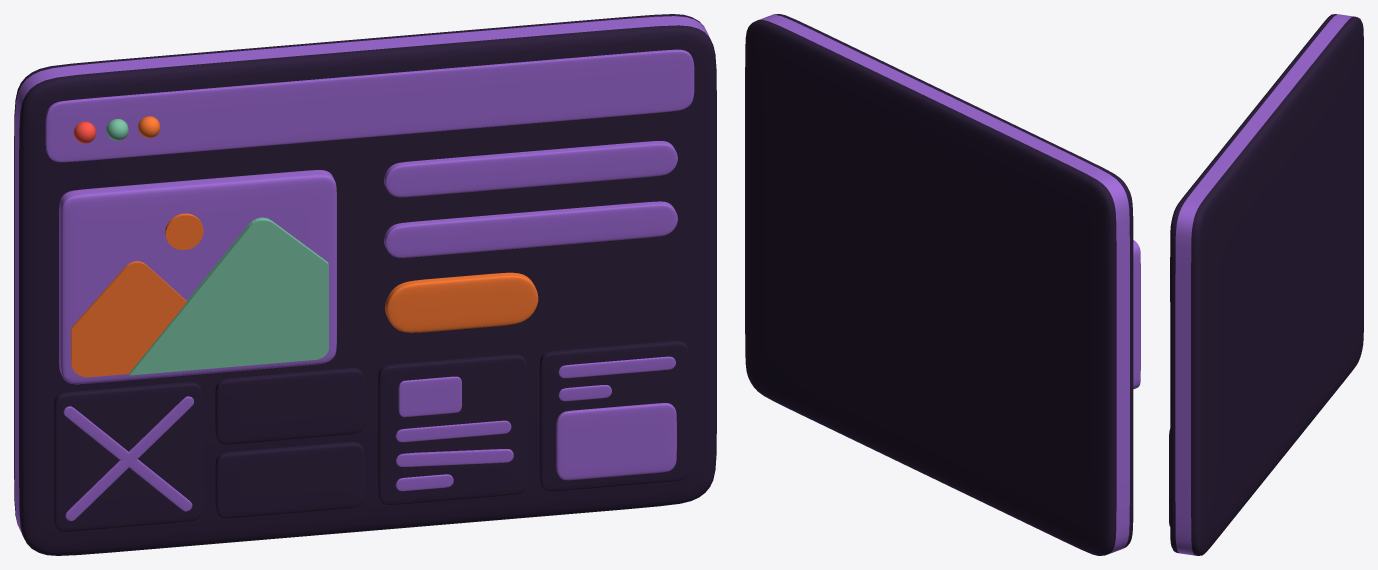
File: website-3d-animated-icon-853515517127.glb
3 views of the same model, side by side, from view 1: azimuth 30°, elevation 25°; view 2: azimuth 150°, elevation 25°; view 3: azimuth 270°, elevation 25° (orthographic). The views are drawn at different scales.
Parts seen in each view (by area): view 1: Windows Frame, Image Icon, Frame 1, Cube.008, Frame 2, Frame 3, Empty Frame 1, Empty Frame 2, Frame 3 Shape, Web Button, Frame 2 Shape, Frame 2 Line 2 (+2 smaller); view 2: Windows Frame, Image Icon; view 3: Windows Frame.
Part boxes in pixels (<box>): Windows Frame: <box>14,14,716,555</box>; Image Icon: <box>59,170,336,384</box>; Frame 1: <box>53,382,202,531</box>; Cube.008: <box>384,141,677,257</box>; Frame 2: <box>377,354,527,504</box>; Frame 3: <box>539,341,688,491</box>; Empty Frame 1: <box>215,368,364,444</box>; Empty Frame 2: <box>215,442,364,518</box>; Frame 3 Shape: <box>556,403,676,480</box>; Web Button: <box>385,272,538,332</box>; Frame 2 Shape: <box>398,376,461,417</box>; Frame 2 Line 2: <box>396,449,513,466</box>; Windows Frame: <box>745,14,1133,555</box>; Image Icon: <box>1133,240,1140,389</box>; Windows Frame: <box>1170,14,1363,555</box>.
Bounding box in the file's own units: 1.58 × 1.23 × 0.618.
